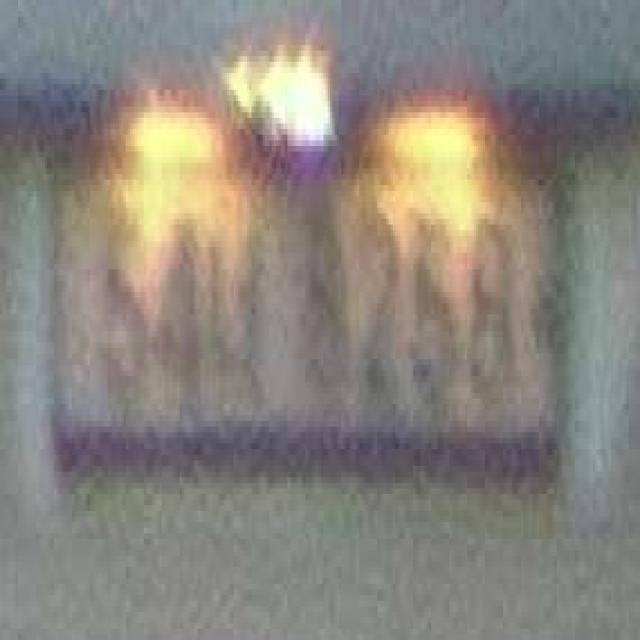2: (353, 168, 402, 432)
4: (148, 174, 204, 444)
5: (402, 196, 460, 438), (96, 202, 152, 410)
8: (287, 168, 355, 432), (460, 180, 521, 438)
license_plate: (45, 112, 570, 516)
neo: (207, 202, 274, 404)
